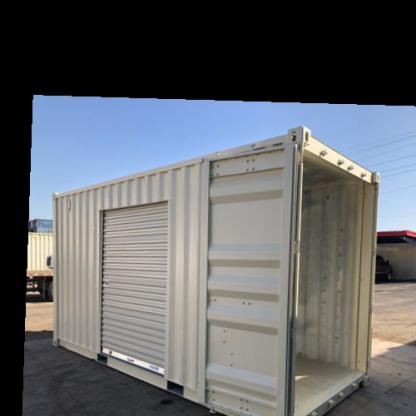Damage: (312, 183, 347, 359), (208, 289, 256, 411)
